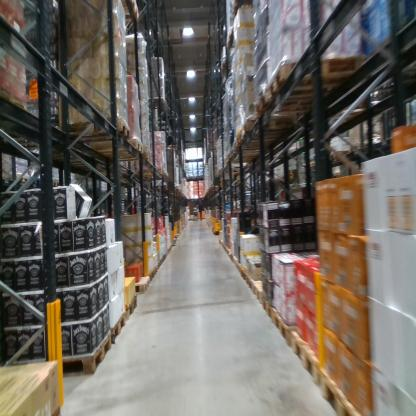pallet: (132, 99, 169, 301), (269, 47, 365, 102), (50, 324, 115, 389), (252, 82, 334, 122), (241, 105, 321, 142), (60, 109, 134, 146), (318, 370, 368, 413), (271, 302, 313, 351), (290, 333, 324, 391), (108, 133, 147, 165), (111, 304, 126, 353), (252, 278, 275, 307), (125, 293, 139, 330), (262, 293, 275, 325), (327, 149, 347, 165), (12, 169, 31, 184), (349, 141, 366, 153), (50, 177, 68, 188), (28, 172, 43, 185), (245, 271, 254, 292)
